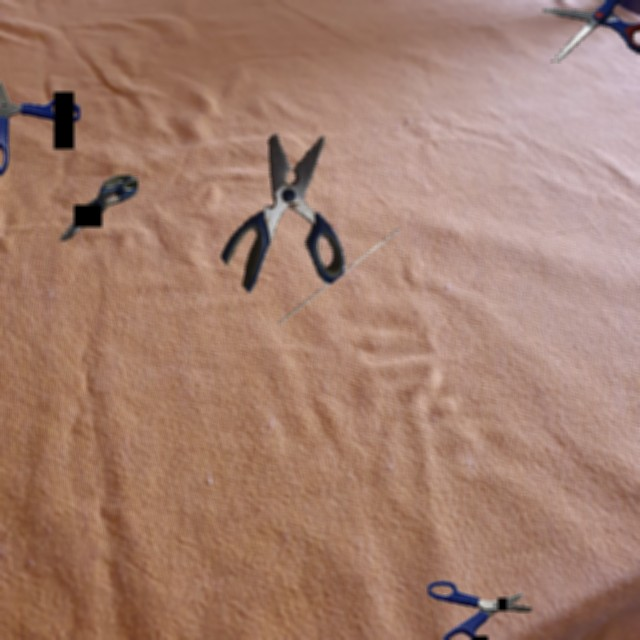scissors: (221, 133, 399, 323), (0, 80, 80, 177), (428, 581, 532, 640), (543, 0, 640, 62), (59, 175, 138, 241)
